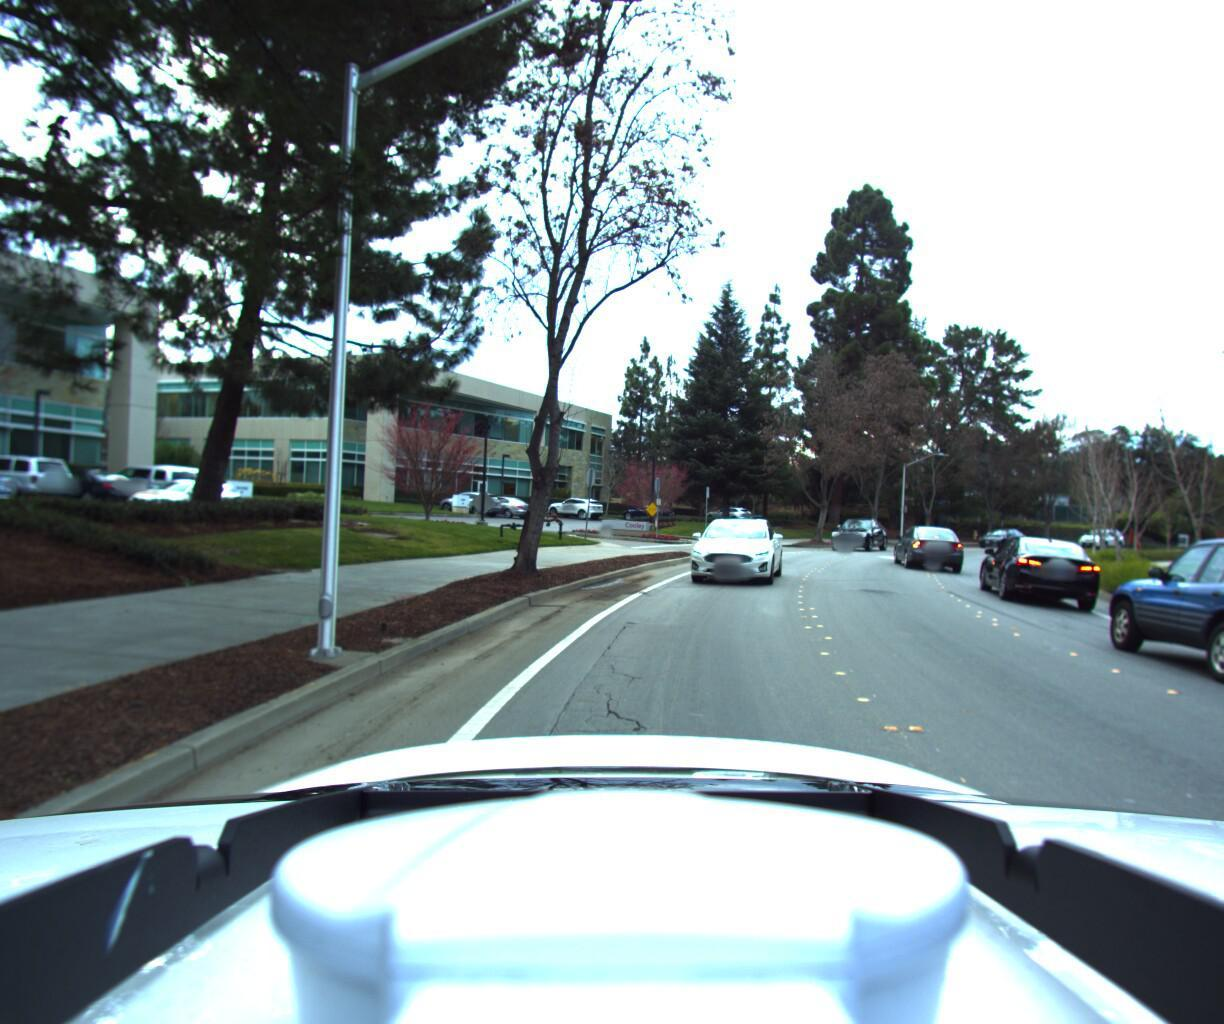car: (1067, 518, 1224, 708), (970, 527, 1105, 607), (676, 510, 783, 591), (895, 520, 967, 573), (817, 513, 888, 549), (973, 514, 1028, 542), (1069, 517, 1121, 544)
